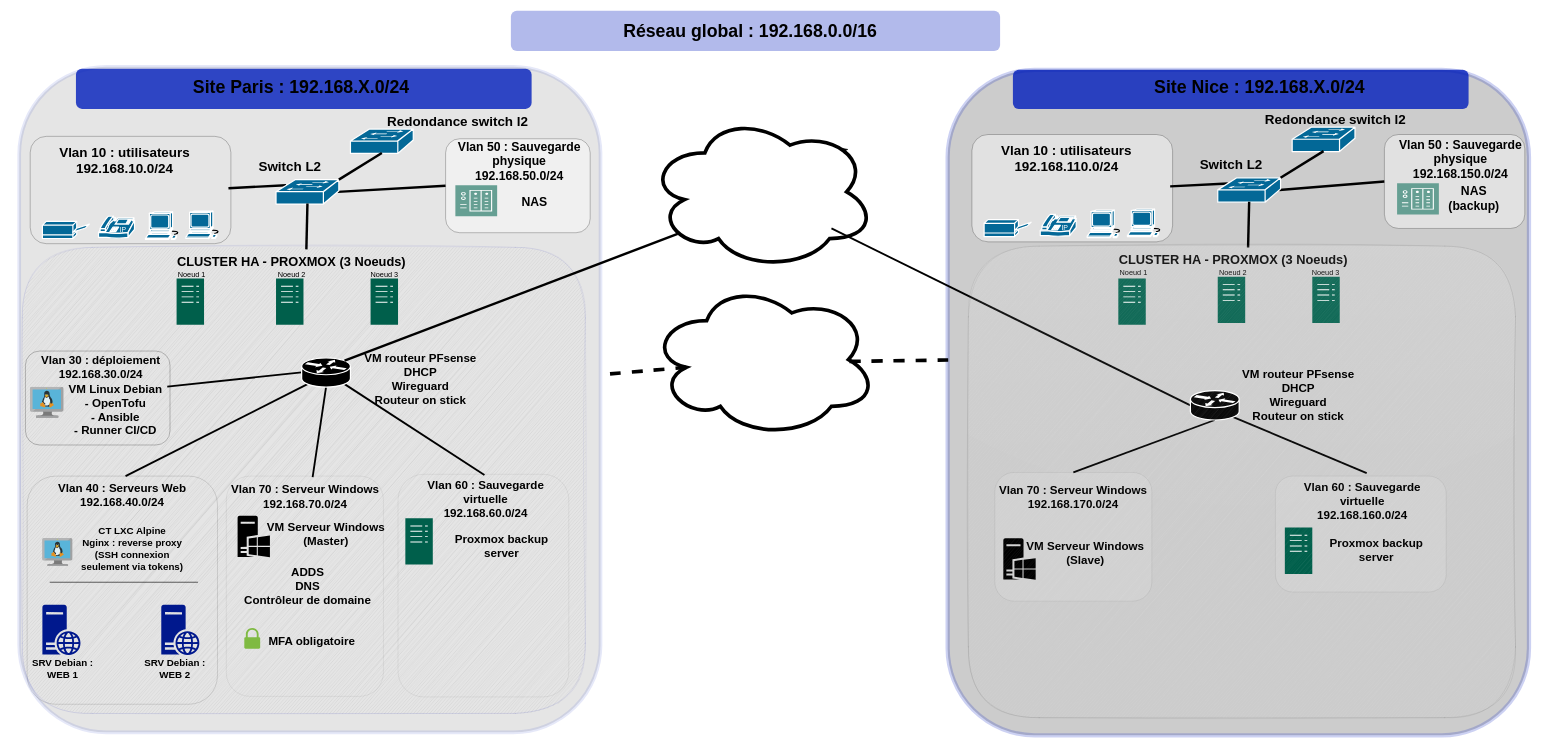
Image size: 1541x748. Some labels were removed from this diagram. The box of each missing label's shape, as (x1, y1, x2, y2) in pixels:
Interco Tunnel VPN - Wireguard: (648, 280, 878, 439)
Internet Dépôts Github : - Github Actions - Github Secrets: (646, 112, 877, 271)
